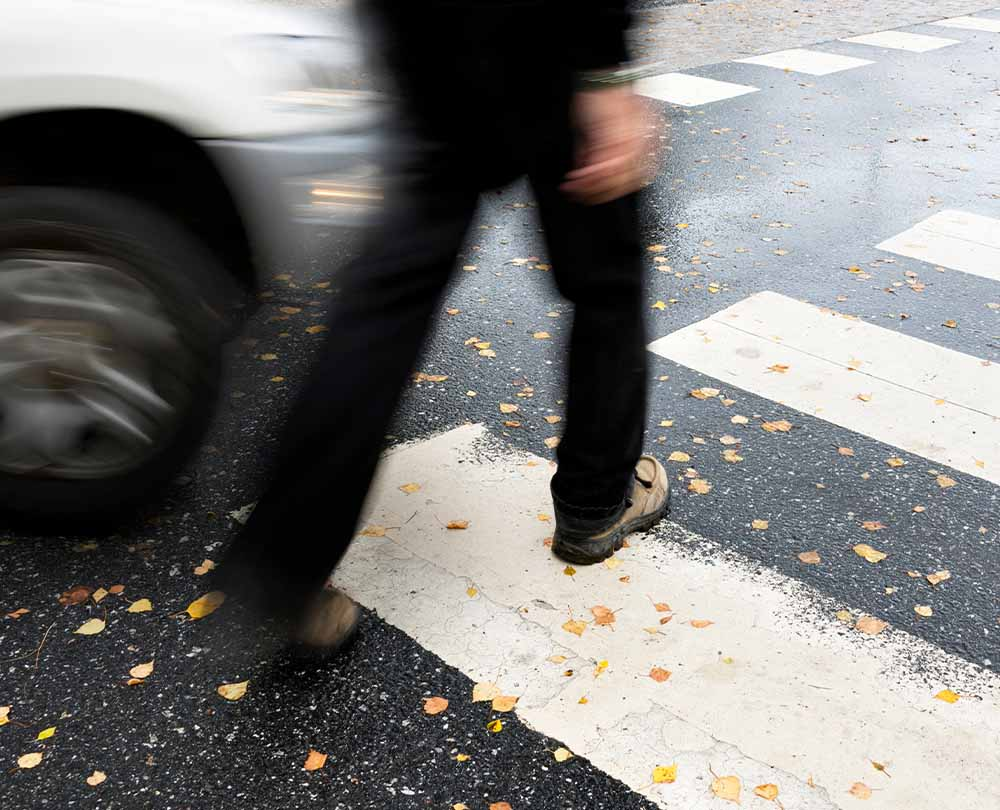Crosswalk: (252, 216, 1000, 810)
